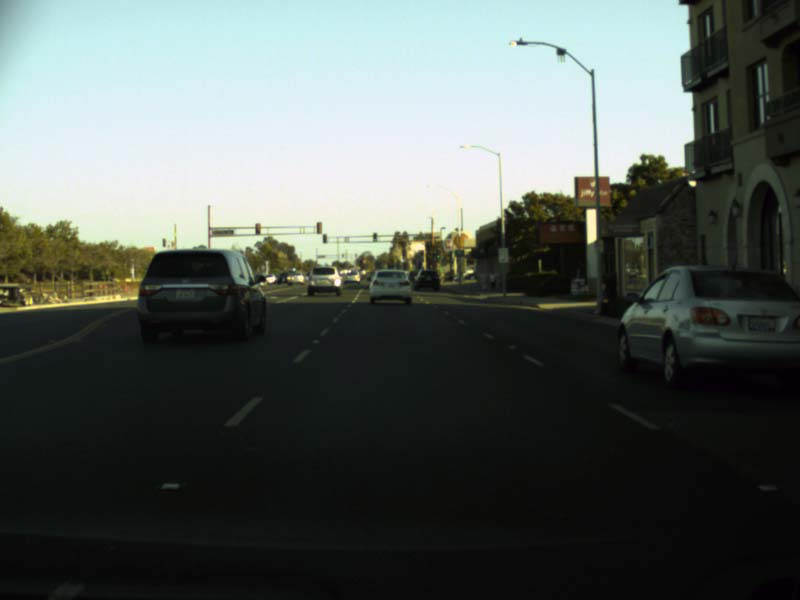Green: (372, 231, 377, 242), (435, 249, 440, 257)
